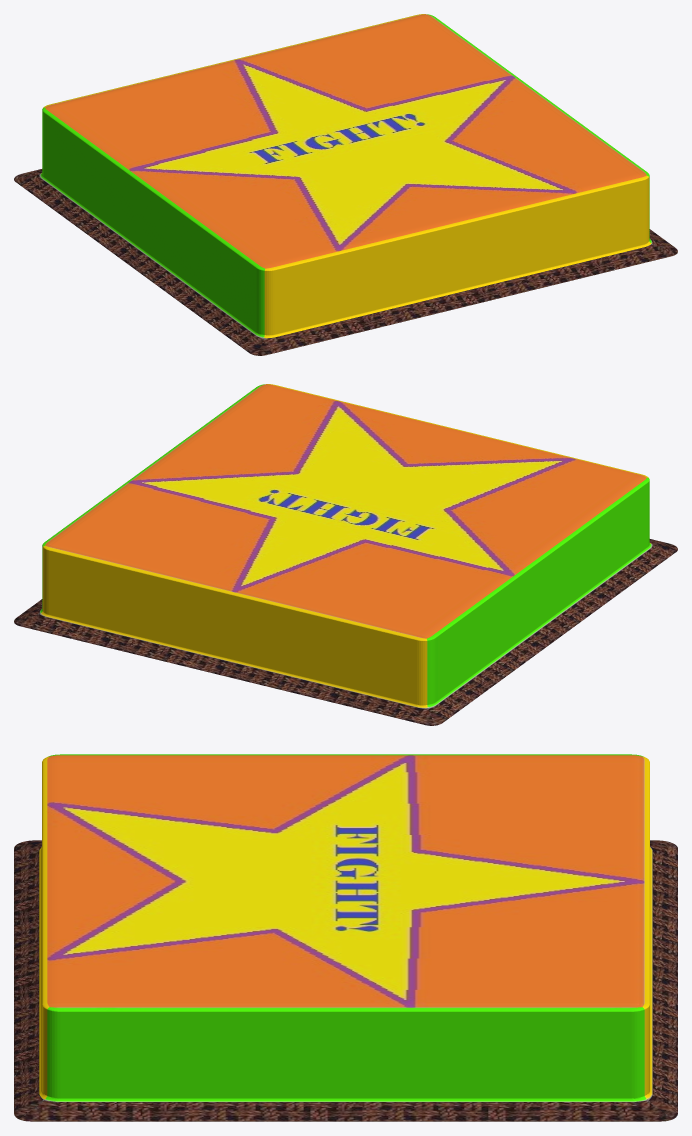
The model's file is fightingRing_Pad.obj.
The picture shows the model from 3 angles, top to bottom: view 1: azimuth 30°, elevation 25°; view 2: azimuth 150°, elevation 25°; view 3: azimuth 270°, elevation 25°; orthographic projection. The views are drawn at different scales.
Parts seen in each view (by area): view 1: FightingRing_Cube; view 2: FightingRing_Cube; view 3: FightingRing_Cube.
Boxes of the visible parts, <box> form: FightingRing_Cube: <box>14,14,677,355</box>; FightingRing_Cube: <box>14,384,677,725</box>; FightingRing_Cube: <box>14,754,677,1121</box>.
Size of the model in its own units: 19.66 by 3.32 by 19.66.
